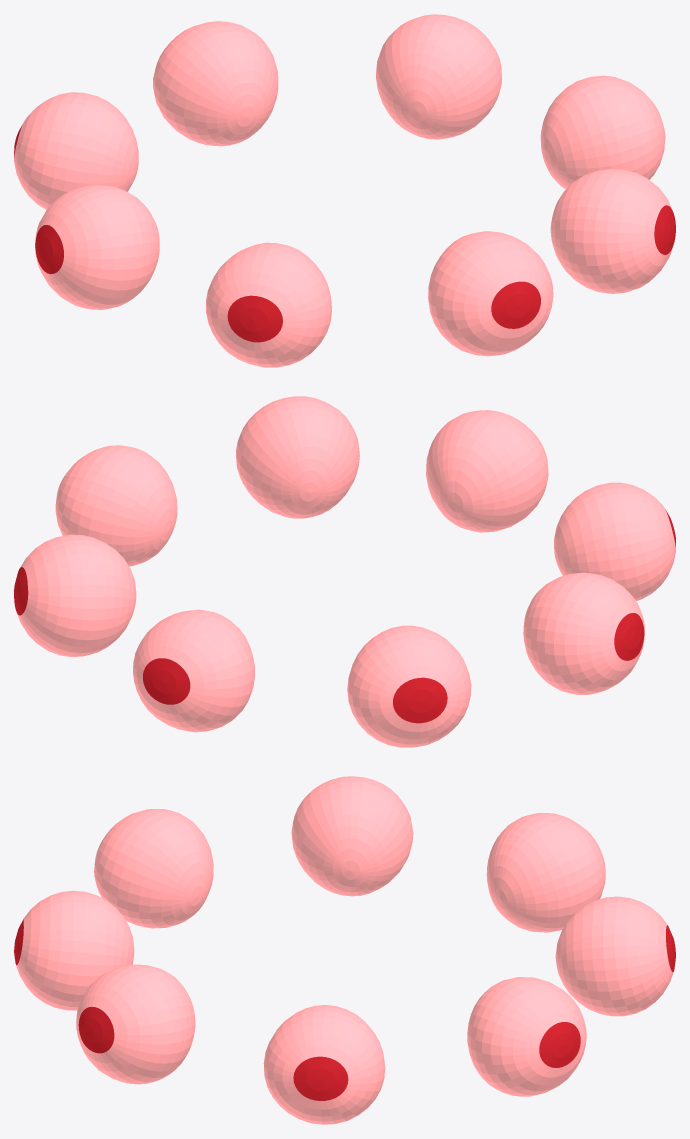
3 views of the same model, one above another, from view 1: azimuth 30°, elevation 25°; view 2: azimuth 150°, elevation 25°; view 3: azimuth 270°, elevation 25° (orthographic). The views are drawn at different scales.
Visible parts, largest first — view 1: Sphere.002; view 2: Sphere.002; view 3: Sphere.002.
Boxes of the visible parts, x1,y1,x2,y2 form: Sphere.002: (14, 14, 675, 367); Sphere.002: (14, 396, 675, 747); Sphere.002: (14, 776, 675, 1124).
Bounding box in the file's own units: 2.44 × 0.443 × 2.44.
